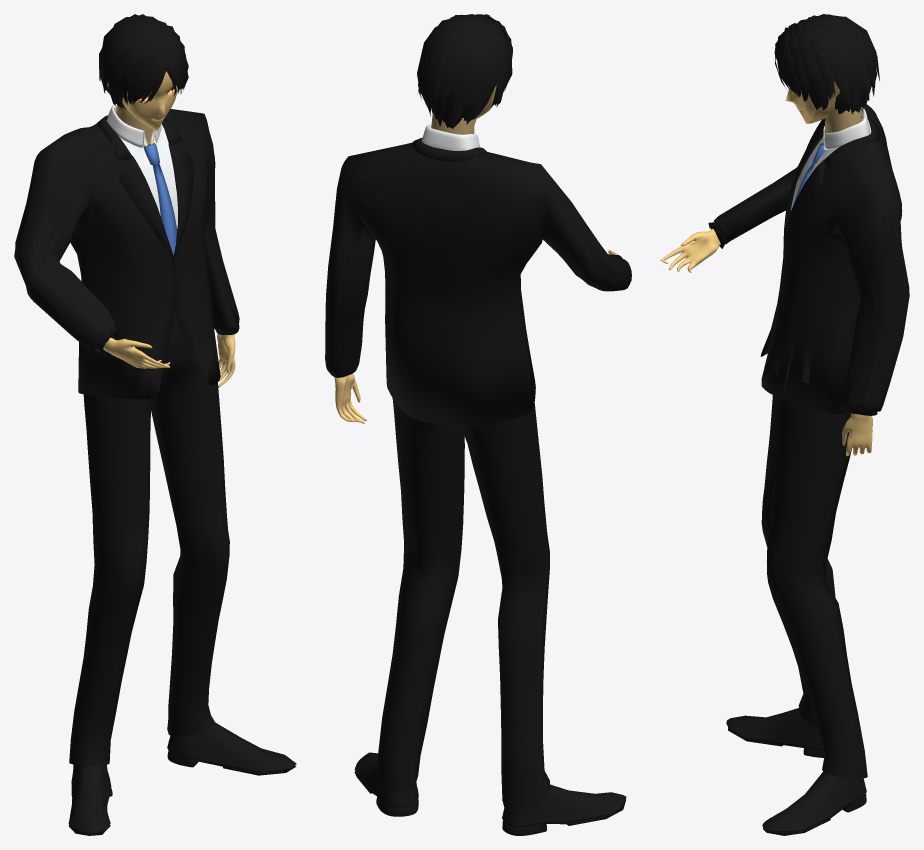
The model's file is npc_bussinesMan.glb.
3 views of the same model, side by side, from view 1: azimuth 30°, elevation 25°; view 2: azimuth 150°, elevation 25°; view 3: azimuth 270°, elevation 25° (orthographic). The views are drawn at different scales.
Visible parts, largest first — view 1: Cube.047_6, Cube.046_5, Cube.049_8, Hair.003_10, Cube.045_4, Cube.044_3, Circle.041_0, Cube.048_7; view 2: Cube.047_6, Cube.046_5, Hair.003_10, Cube.049_8, Cube.044_3, Cube.045_4; view 3: Cube.047_6, Cube.046_5, Hair.003_10, Cube.049_8, Cube.044_3, Cube.045_4, Circle.041_0.
Boxes of the visible parts, x1,y1,x2,y2 form: Cube.047_6: (14,109,239,399); Cube.046_5: (69,307,229,765); Cube.049_8: (68,723,296,835); Hair.003_10: (99,14,188,110); Cube.045_4: (106,104,177,228); Cube.044_3: (103,105,235,387); Circle.041_0: (107,56,177,130); Cube.048_7: (143,143,177,255); Cube.047_6: (325,137,631,428); Cube.046_5: (376,398,549,809); Hair.003_10: (417,14,512,128); Cube.049_8: (354,752,626,835); Cube.044_3: (334,112,618,423); Cube.045_4: (421,124,480,150); Cube.047_6: (708,103,909,415); Cube.046_5: (761,395,867,779); Hair.003_10: (774,14,879,114); Cube.049_8: (726,708,866,835); Cube.044_3: (660,108,872,456); Cube.045_4: (791,107,871,210); Circle.041_0: (785,81,839,123).
Size of the model in its own units: 8.31 by 23.61 by 7.03.
Materials: 1 (1 with a texture image).
